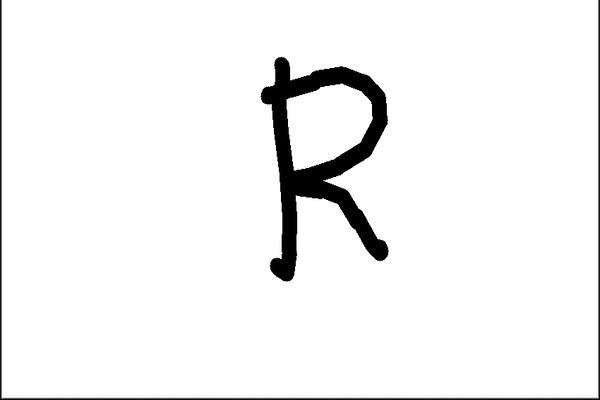R: (248, 33, 410, 275)
